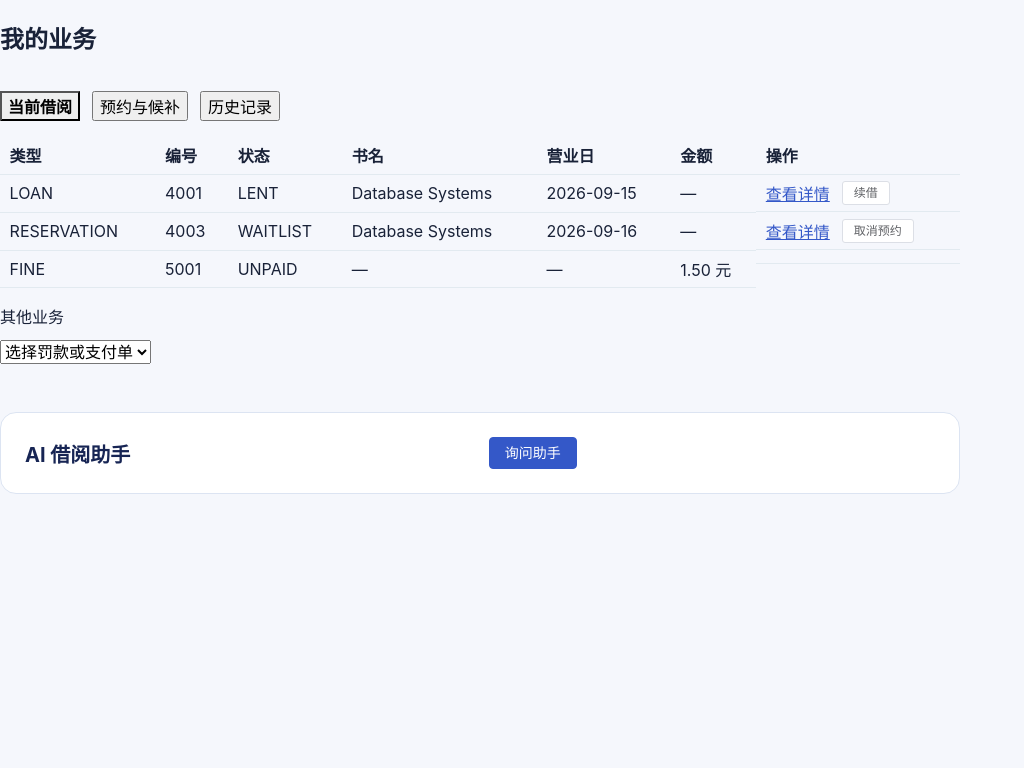
Test: MyBusinessView › renews a loan and shows the new due date
This screenshot has width=1024, height=768.
Click the button with test id "renew-4001" at (866, 193), box x1=842 y1=181 x2=890 y2=205
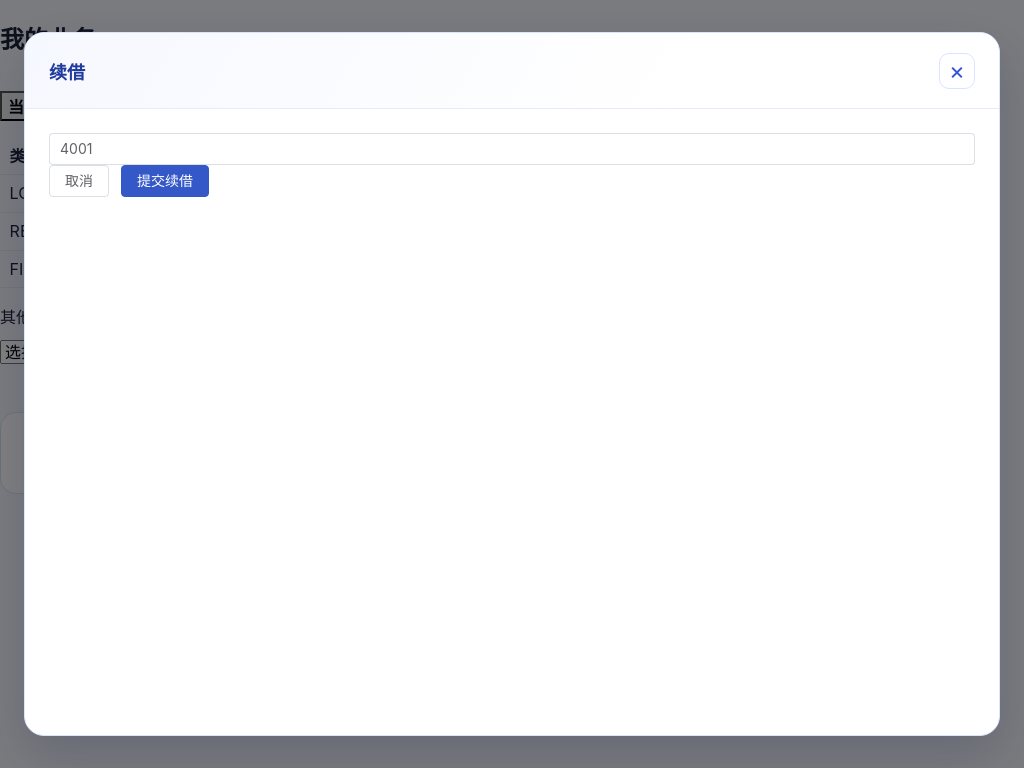
Click the button with test id "renew-modal-submit" at (165, 181), box x1=121 y1=165 x2=209 y2=197
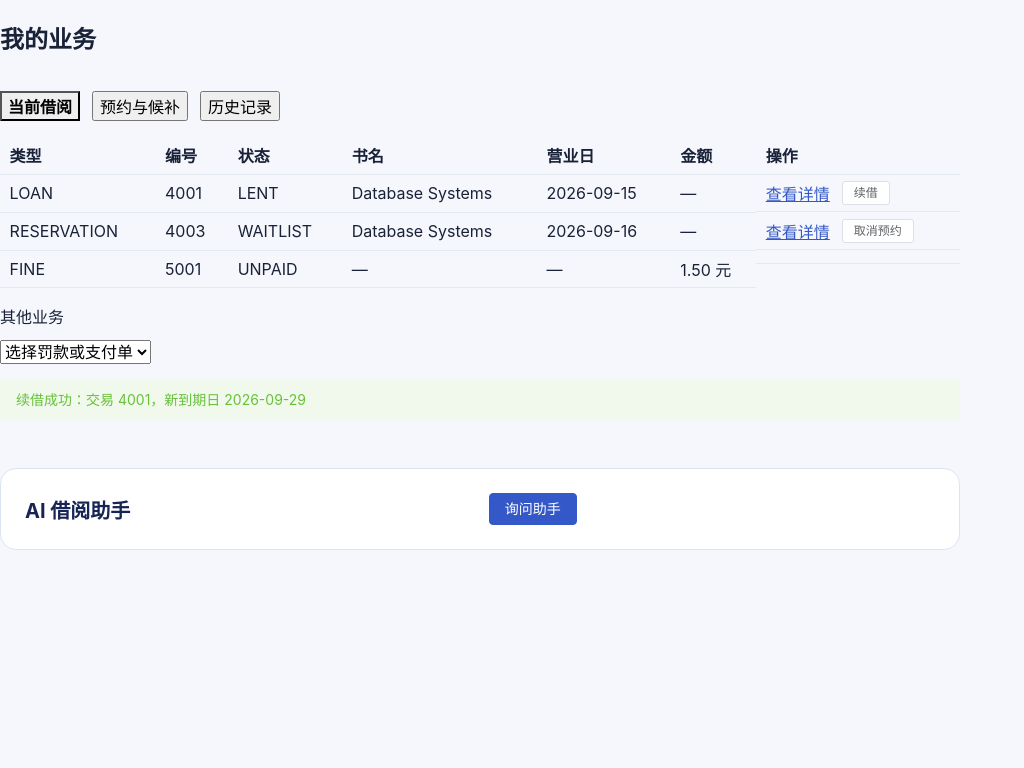
Now the element with test id "renew-result" is shown, box x1=0 y1=380 x2=960 y2=420
Now the element with test id "renew-result" shows "2026-09-29", box x1=16 y1=391 x2=306 y2=408
